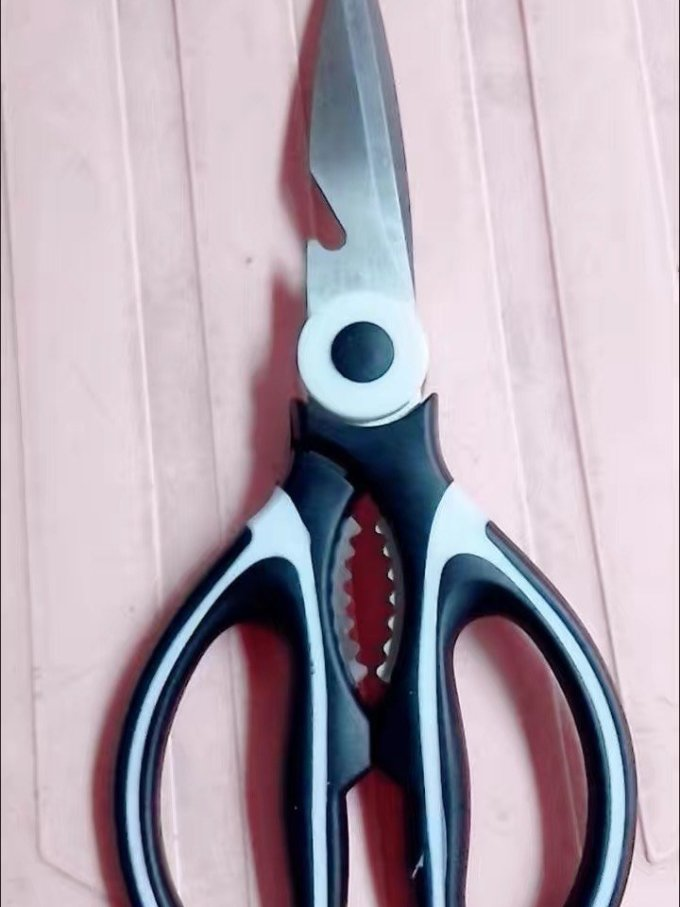scissors: (98, 1, 650, 907)
